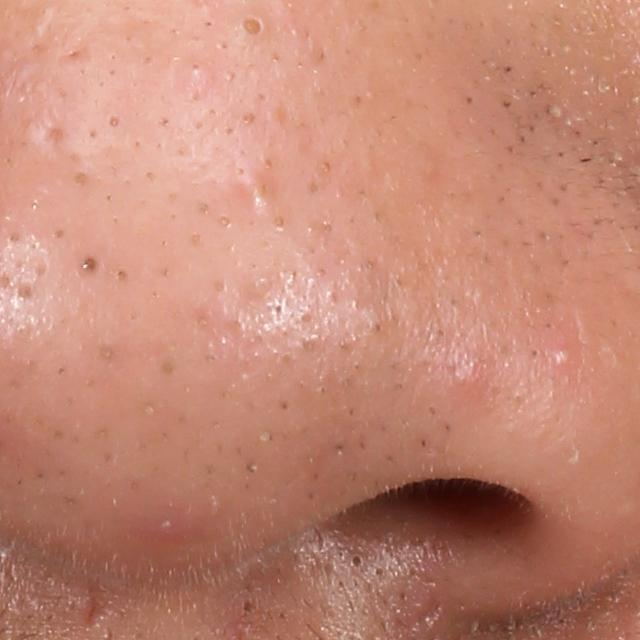atrophic_scar: (83, 591, 104, 632), (45, 125, 67, 144)
comedo: (234, 11, 268, 40), (343, 546, 371, 572), (246, 188, 273, 211), (239, 595, 261, 622), (76, 255, 101, 276), (106, 110, 124, 131)
pustule: (551, 346, 575, 373)
